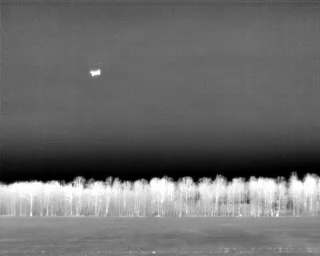DRONE: (86, 64, 106, 82)
